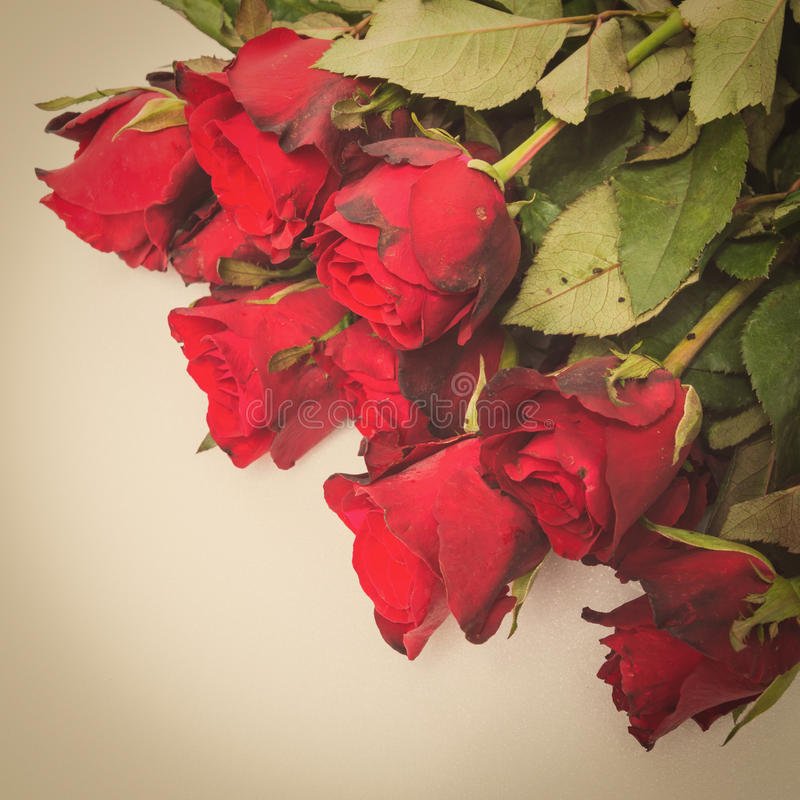RedRose: (462, 348, 755, 569), (316, 424, 542, 694), (145, 12, 371, 269), (156, 266, 399, 472), (305, 135, 524, 355), (594, 518, 800, 745), (21, 58, 202, 278)
